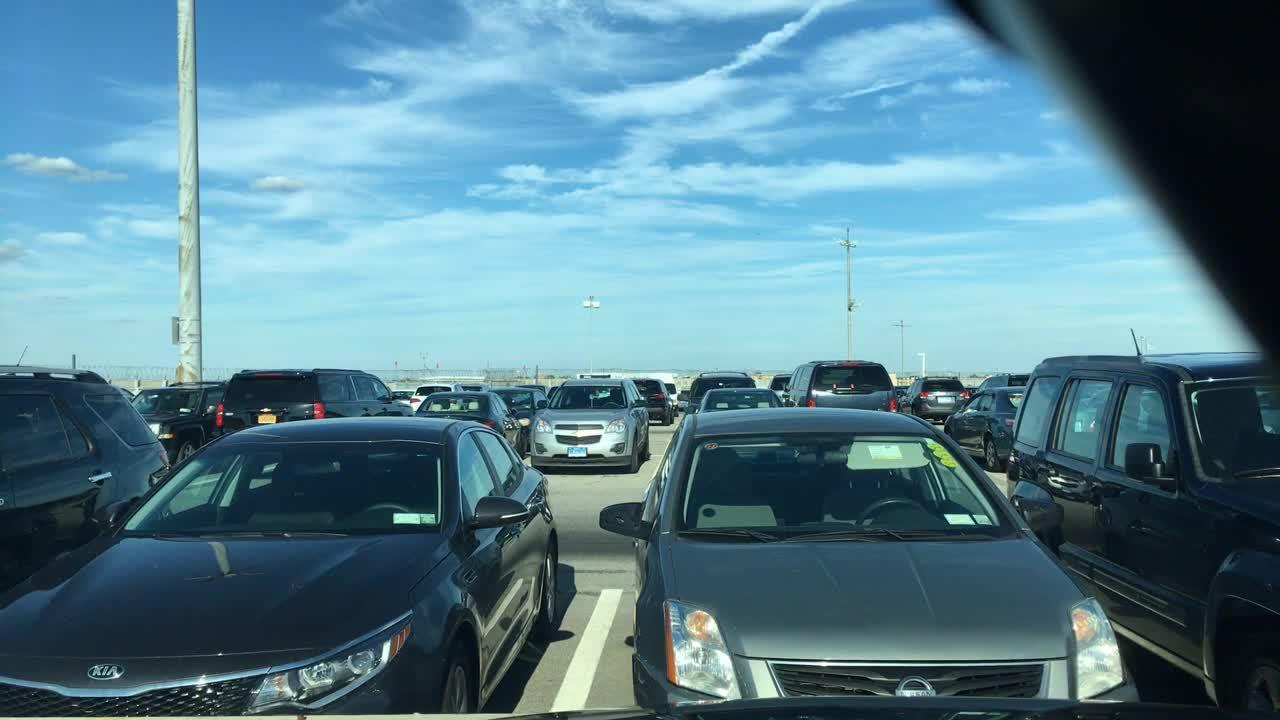kia: (83, 656, 129, 689)
